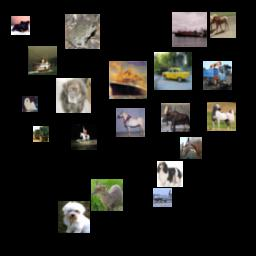airplane: (153, 188, 172, 207)
automobile: (154, 52, 192, 90)
deer: (91, 179, 123, 211), (161, 103, 190, 132)
dog: (56, 78, 91, 113), (58, 201, 90, 233), (157, 161, 183, 187), (11, 16, 30, 35), (22, 96, 38, 112)
frog: (65, 14, 100, 49)
ship: (109, 61, 147, 99), (172, 12, 207, 47), (28, 46, 57, 75)
truck: (203, 61, 232, 90), (33, 126, 49, 142)
